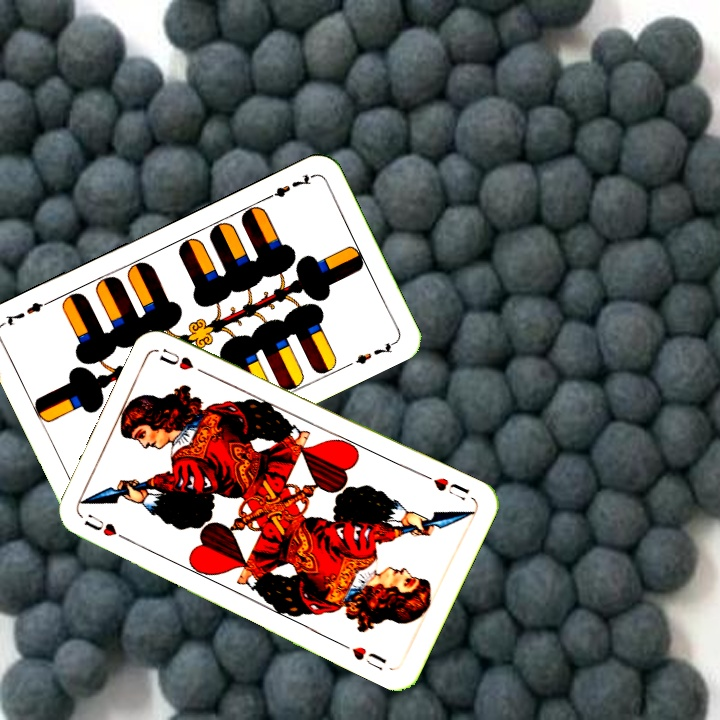E7: (261, 170, 316, 203)
HU: (79, 510, 134, 545), (420, 470, 472, 503)
